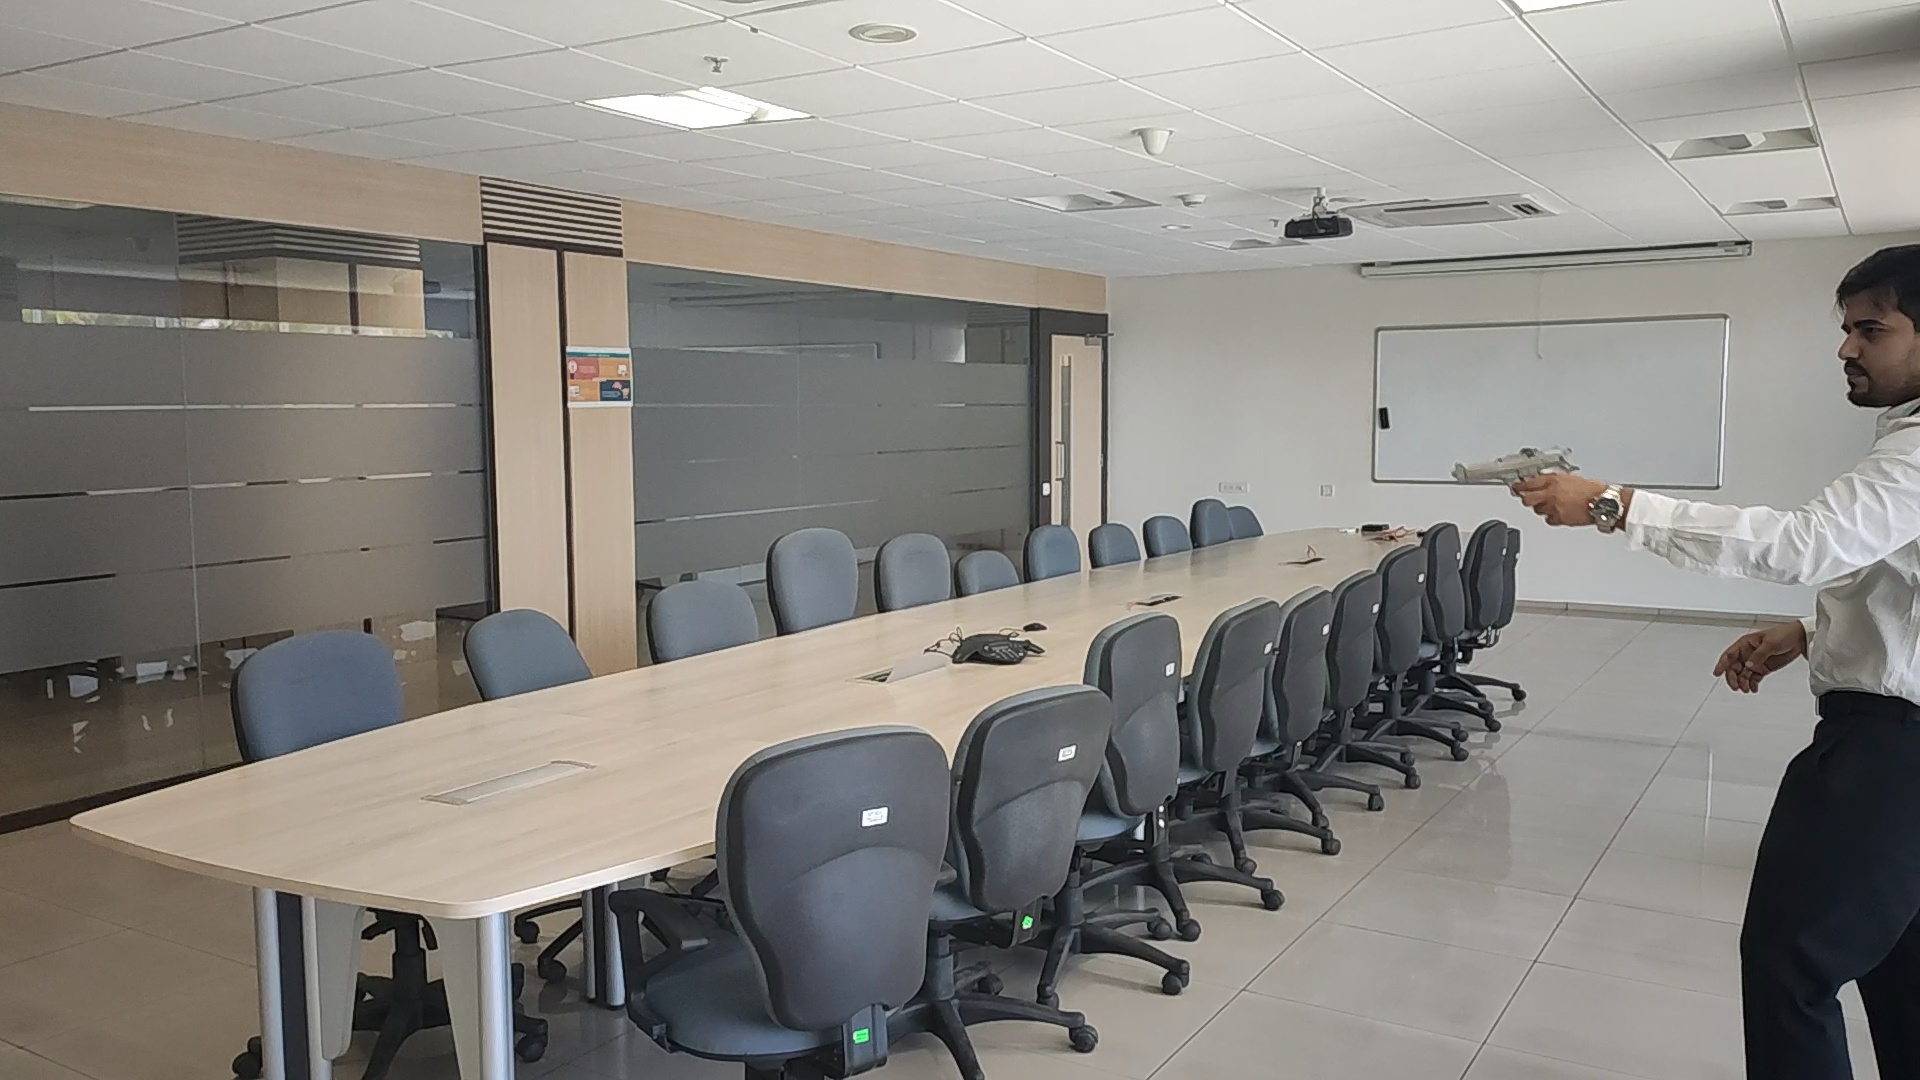gun: (1449, 444, 1578, 493)
